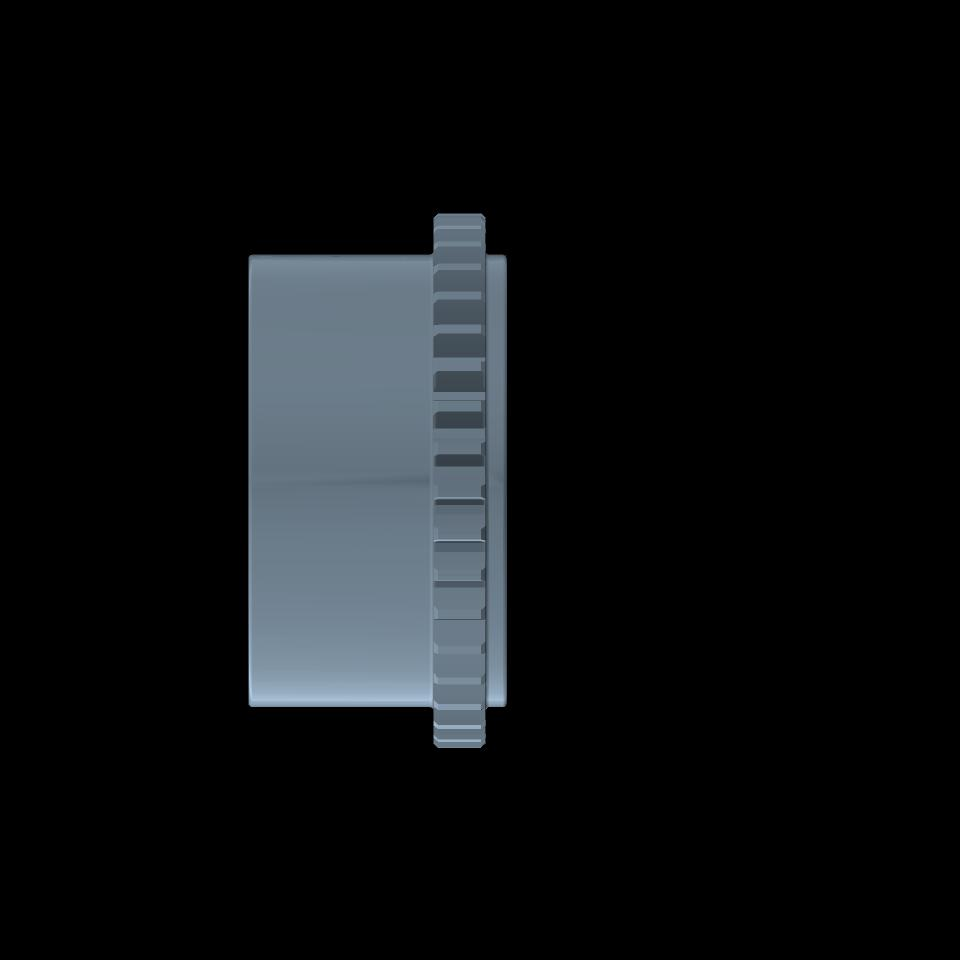Straight: (437, 214, 481, 746)
